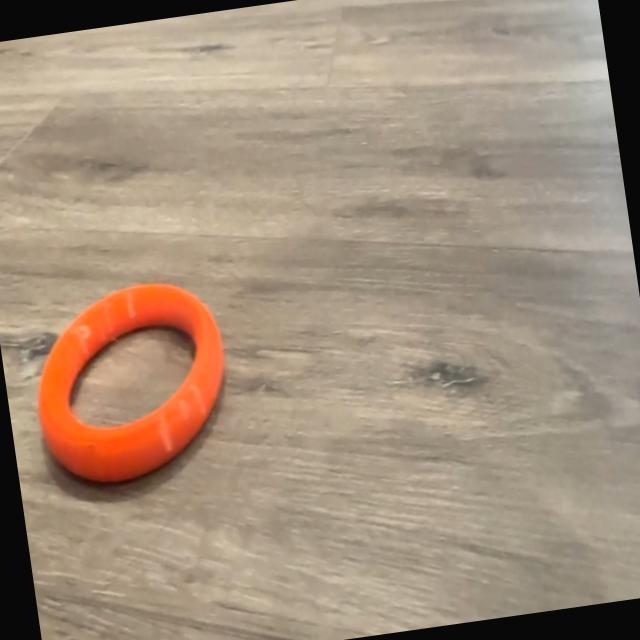note: (23, 271, 241, 500)
